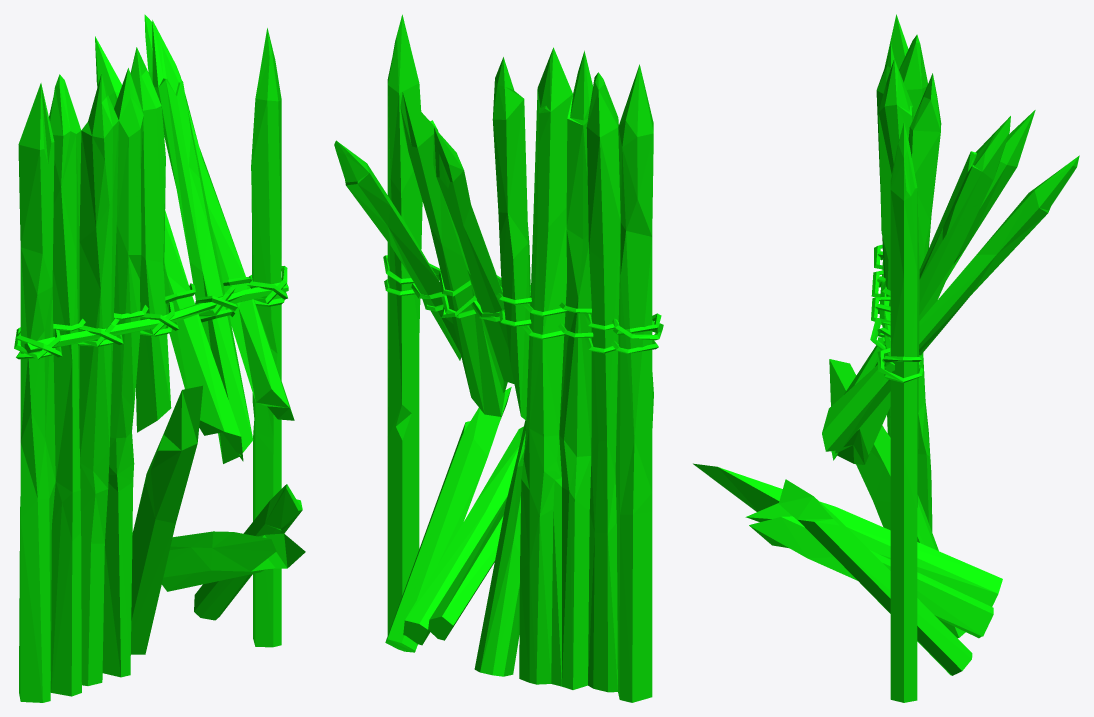
File: SM_Palisade_3m_Broken_C.fbx
The picture shows the model from 3 angles, left to right: view 1: azimuth 30°, elevation 25°; view 2: azimuth 150°, elevation 25°; view 3: azimuth 270°, elevation 25°; orthographic projection. The views are drawn at different scales.
Parts seen in each view (by area): view 1: palisade-3m-broken-c; view 2: palisade-3m-broken-c; view 3: palisade-3m-broken-c.
Part boxes in pixels (x1=…): palisade-3m-broken-c: x1=14, y1=14, x2=305, y2=702; palisade-3m-broken-c: x1=334, y1=14, x2=663, y2=702; palisade-3m-broken-c: x1=693, y1=14, x2=1079, y2=702.
Bounding box in the file's own units: 3.14 × 6.8 × 4.13.
